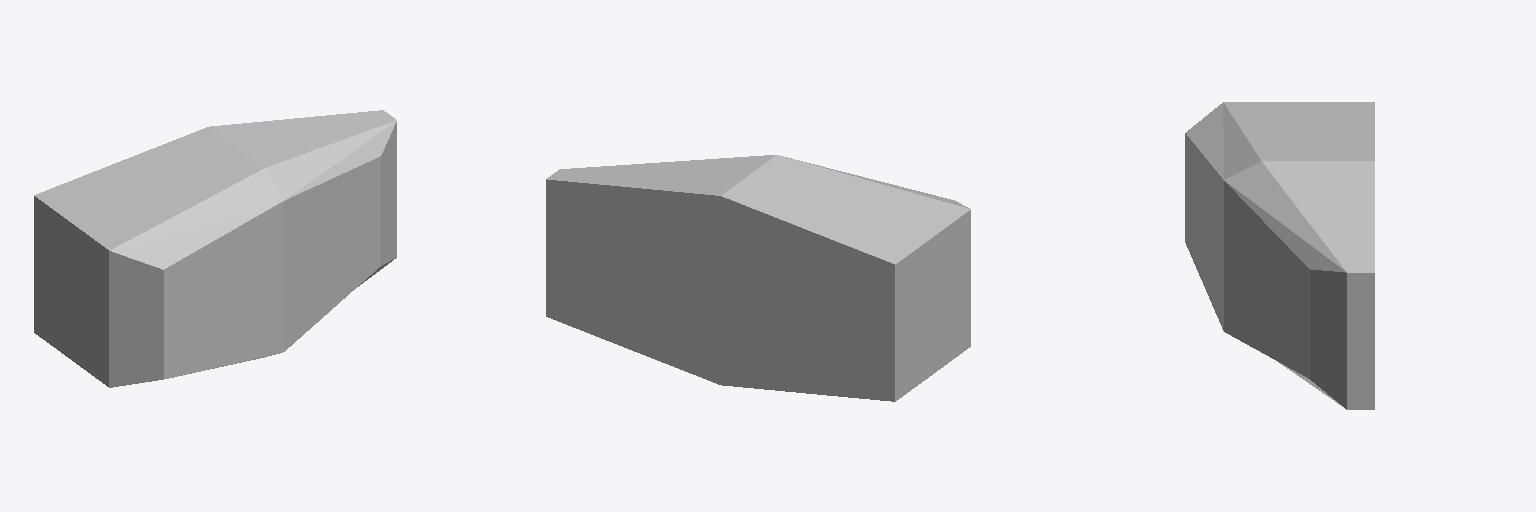
Rendered from foot.obj.
The picture shows the model from 3 angles: view 1: azimuth 30°, elevation 25°; view 2: azimuth 150°, elevation 25°; view 3: azimuth 270°, elevation 25°; orthographic projection.
Visible parts, largest first — view 1: cube2; view 2: cube2; view 3: cube2.
Boxes of the visible parts, x1=… form: cube2: x1=34, y1=110, x2=396, y2=387; cube2: x1=546, y1=155, x2=970, y2=401; cube2: x1=1185, y1=102, x2=1374, y2=409.
Size of the model in its own units: 0.16 by 0.0828 by 0.0751.